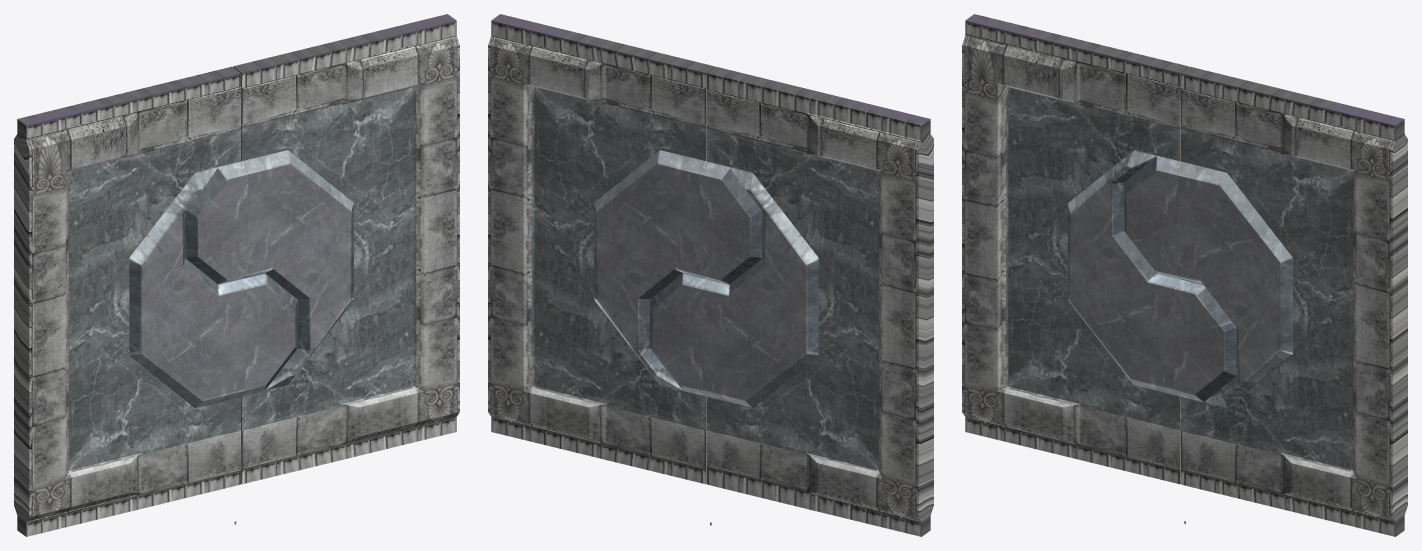
Rendered from b1-middledam-stonedoor_model.fbx.
3 renders of one model, left to right at view 1: azimuth 30°, elevation 25°; view 2: azimuth 150°, elevation 25°; view 3: azimuth 330°, elevation 25°, orthographic.
Parts seen in each view (by area): view 1: Object01, Box06, Object03, Object02; view 2: Object01, Box06, Object03, Object02; view 3: Box06, Object01, Object02, Object03.
Part boxes in pixels (left/top/right/bottom): Object01: left=14, top=66, right=240, bottom=536; Box06: left=233, top=14, right=459, bottom=484; Object03: left=129, top=167, right=297, bottom=407; Object02: left=185, top=150, right=353, bottom=390; Object01: left=707, top=66, right=933, bottom=536; Box06: left=488, top=14, right=714, bottom=484; Object03: left=650, top=167, right=818, bottom=407; Object02: left=594, top=150, right=762, bottom=390; Box06: left=1181, top=66, right=1407, bottom=536; Object01: left=962, top=14, right=1188, bottom=484; Object02: left=1124, top=156, right=1292, bottom=407; Object03: left=1068, top=150, right=1236, bottom=402.
Bounding box in the file's own units: 8.86 × 8.94 × 0.6776.
